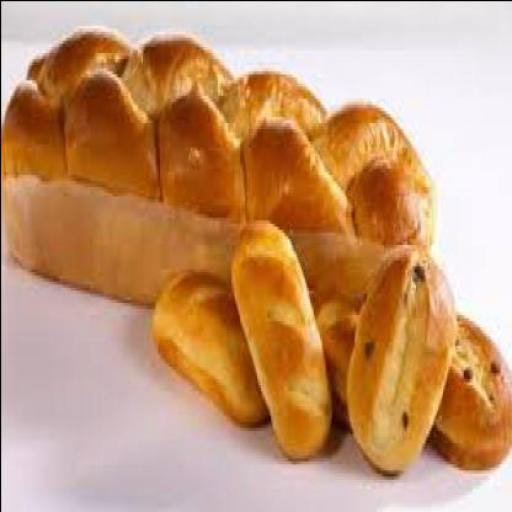biodegradable: (4, 21, 437, 305), (310, 283, 511, 464), (346, 238, 458, 472), (234, 213, 332, 454), (154, 260, 273, 430)
